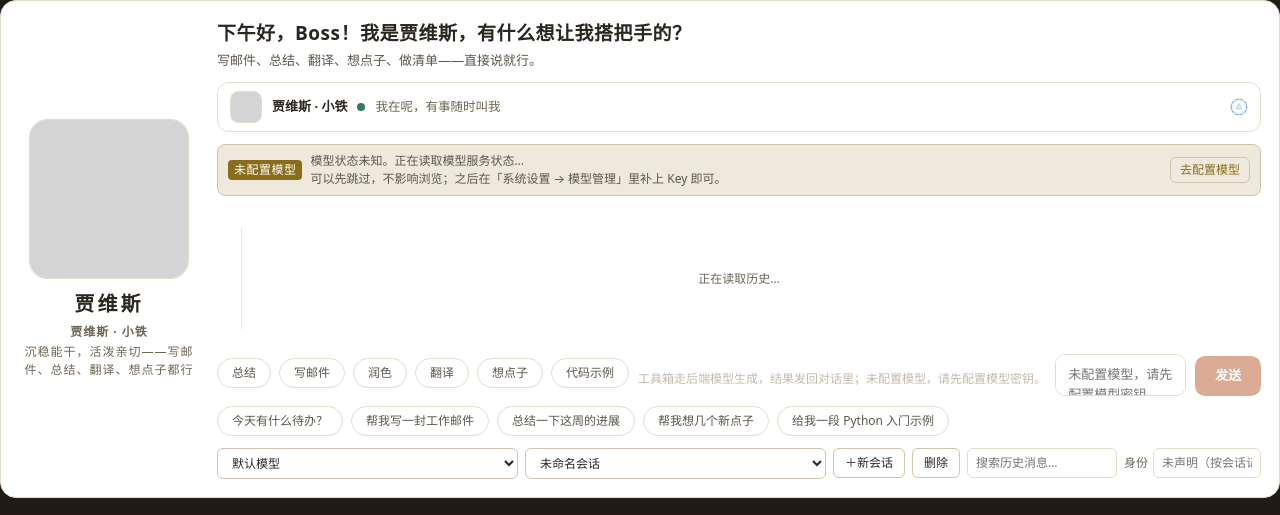
ChatPanel 结束帧 › 物理 429（限流）说请求过于频繁，不出现预算按钮
Step 1. Type "你好" into the text box with placeholder "未配置模型，请先配置模型密钥" → (1121, 375), box [1055,354,1186,396]
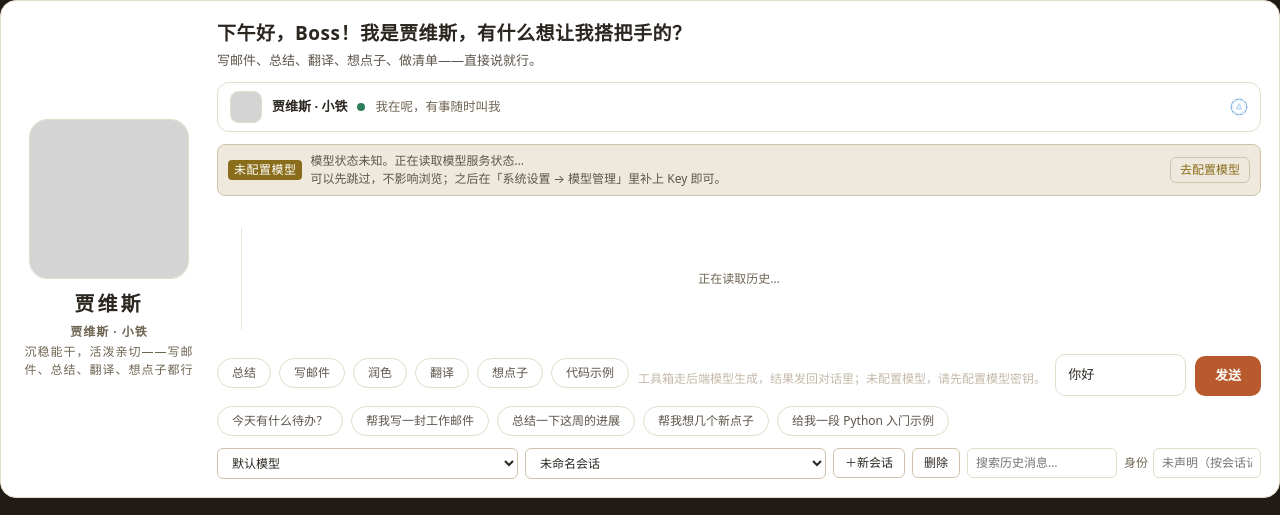
Step 2. Click the button "发送" → (1228, 376), box [1195,356,1261,396]
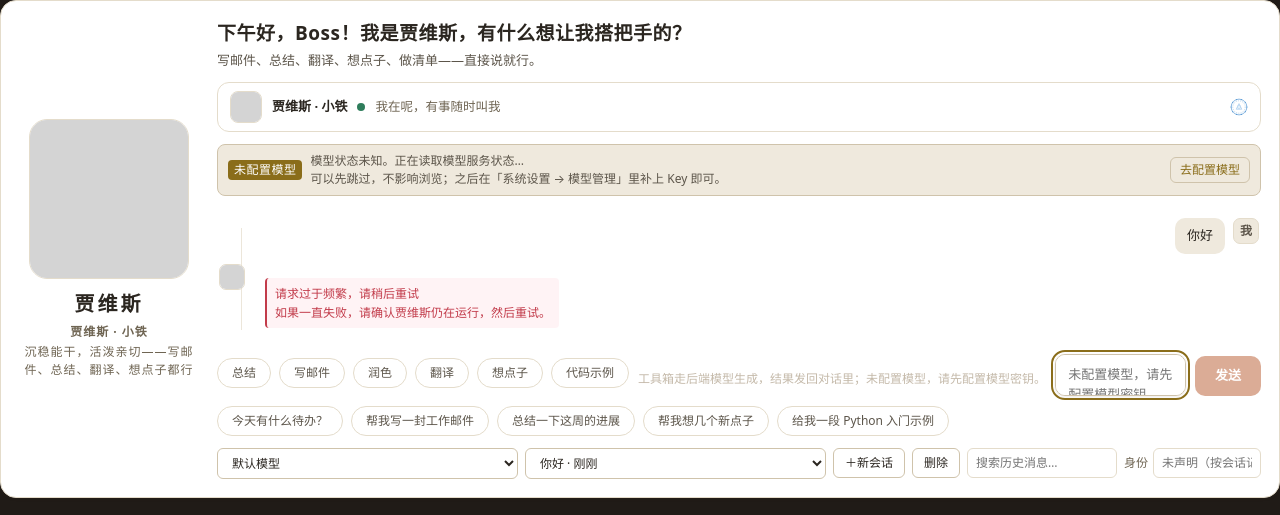
Expected: the text "请求过于频繁，请稍后重试" is shown, [275,284,419,302]
